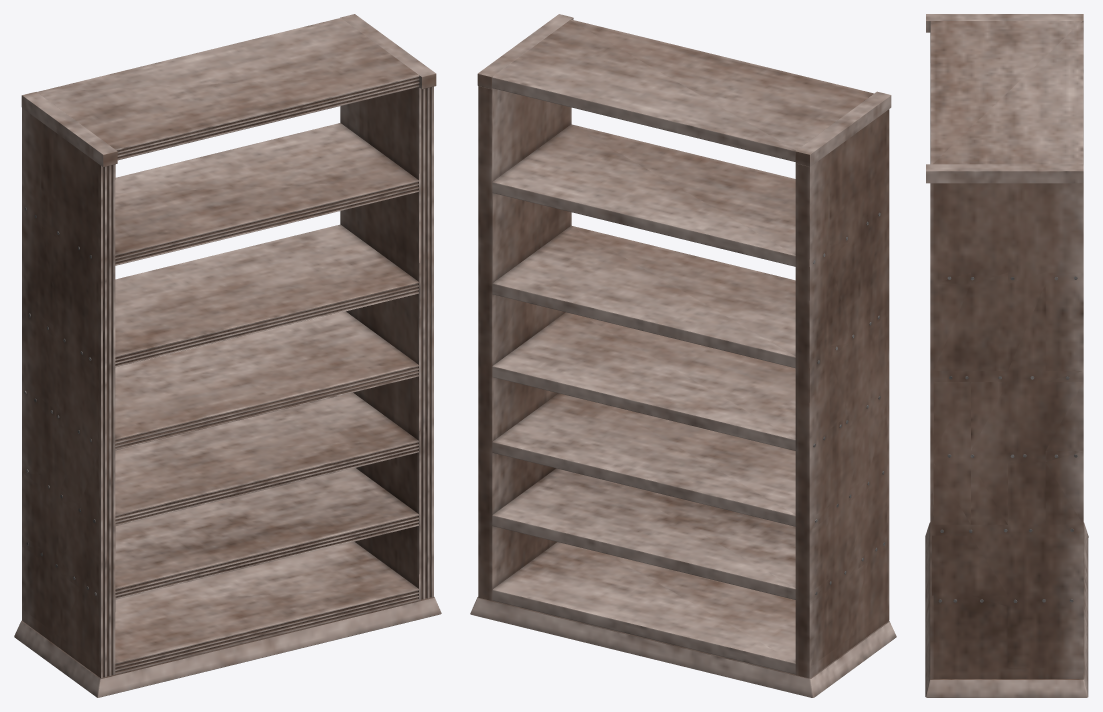
Rendered from bookshelf.glb.
3 renders of one model, left to right at view 1: azimuth 30°, elevation 25°; view 2: azimuth 150°, elevation 25°; view 3: azimuth 270°, elevation 25°, orthographic. The views are drawn at different scales.
Visible parts, largest first — view 1: mesh; view 2: mesh; view 3: mesh.
Boxes of the visible parts, x1,y1,x2,y2 form: mesh: (14,14,441,697); mesh: (470,14,896,697); mesh: (925,14,1088,697).
Size of the model in its own units: 1.37 by 2.06 by 0.5817.
Materials: 1 (1 with a texture image).
